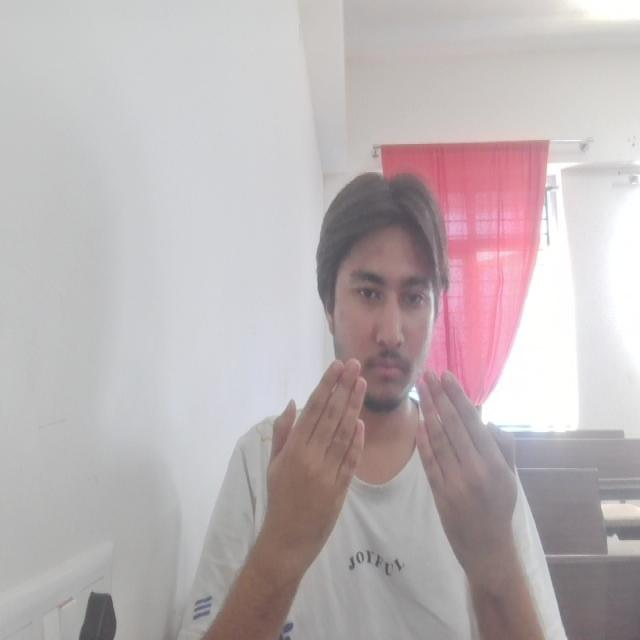thankyou: (264, 356, 521, 571)
